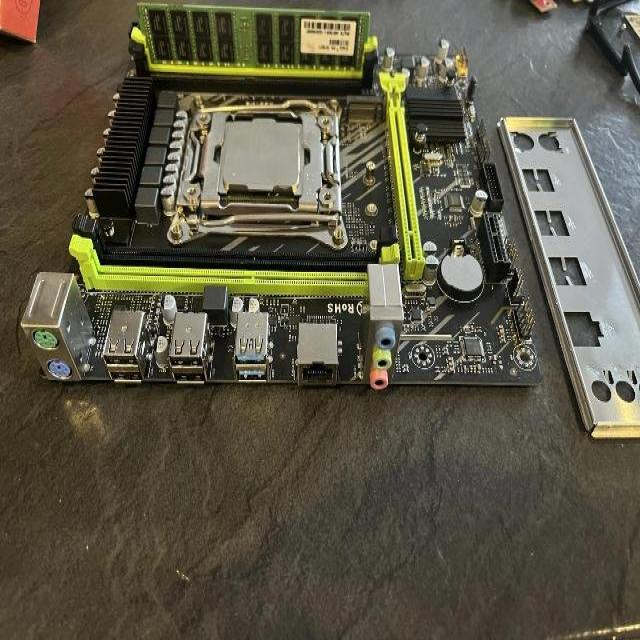CPU: (218, 116, 306, 196)
RAM: (136, 1, 372, 72)
